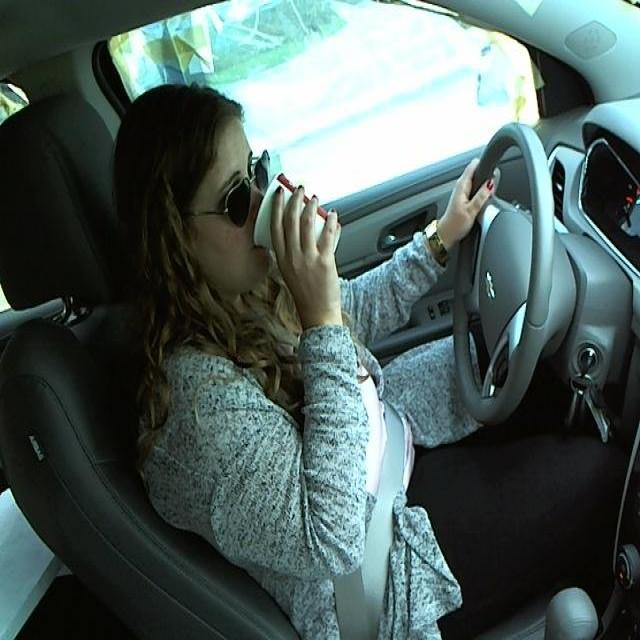drinking: (250, 164, 344, 281)
